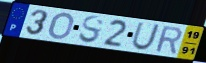2: (102, 19, 129, 49)
3: (24, 9, 49, 37)
O: (47, 12, 76, 41)
R: (154, 25, 183, 56)
S: (77, 15, 106, 45)
U: (130, 21, 162, 52)
